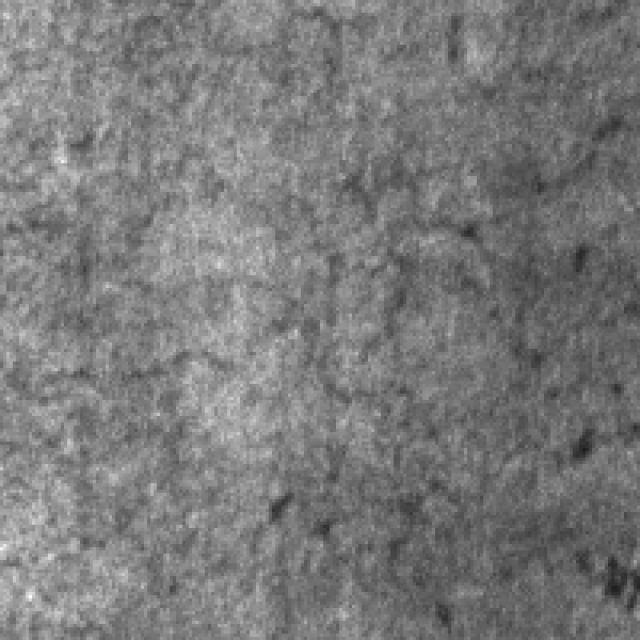crazing: (310, 182, 538, 426), (0, 240, 298, 390)
